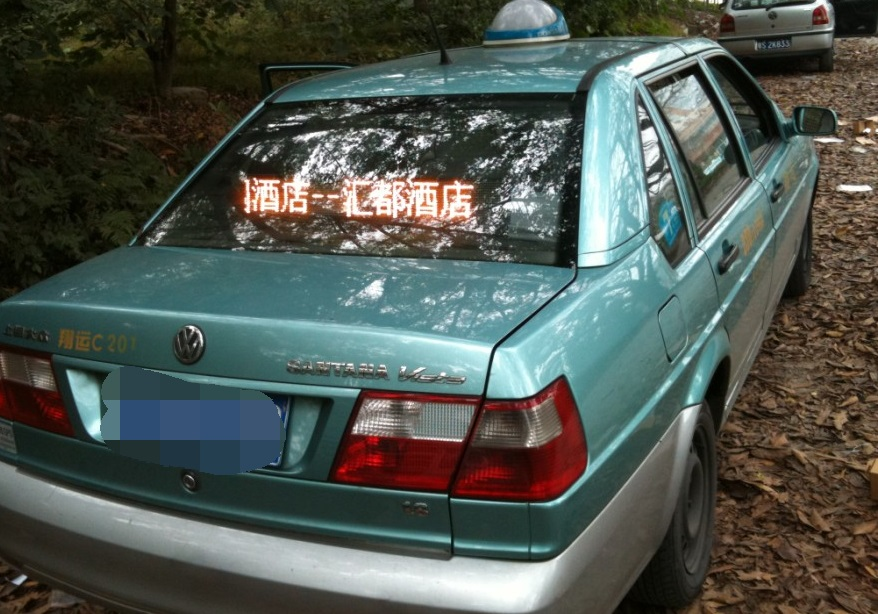taxi: (18, 1, 843, 614)
